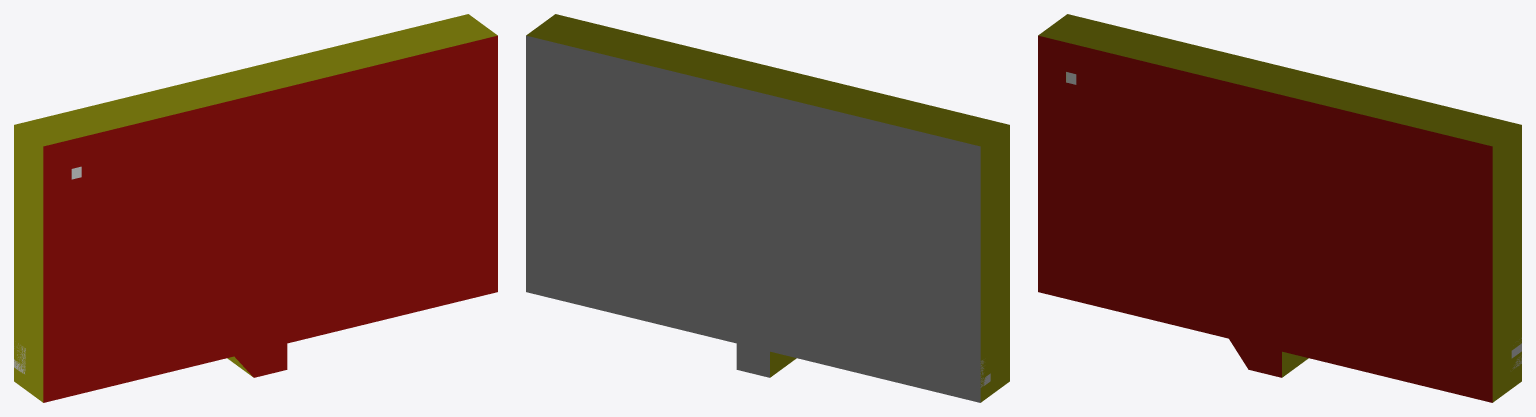
File: idf.obj
3 views of the same model, side by side, from view 1: azimuth 30°, elevation 25°; view 2: azimuth 150°, elevation 25°; view 3: azimuth 330°, elevation 25° (orthographic).
Size of the model in its own units: 54.27 by 32.27 by 6.1.
